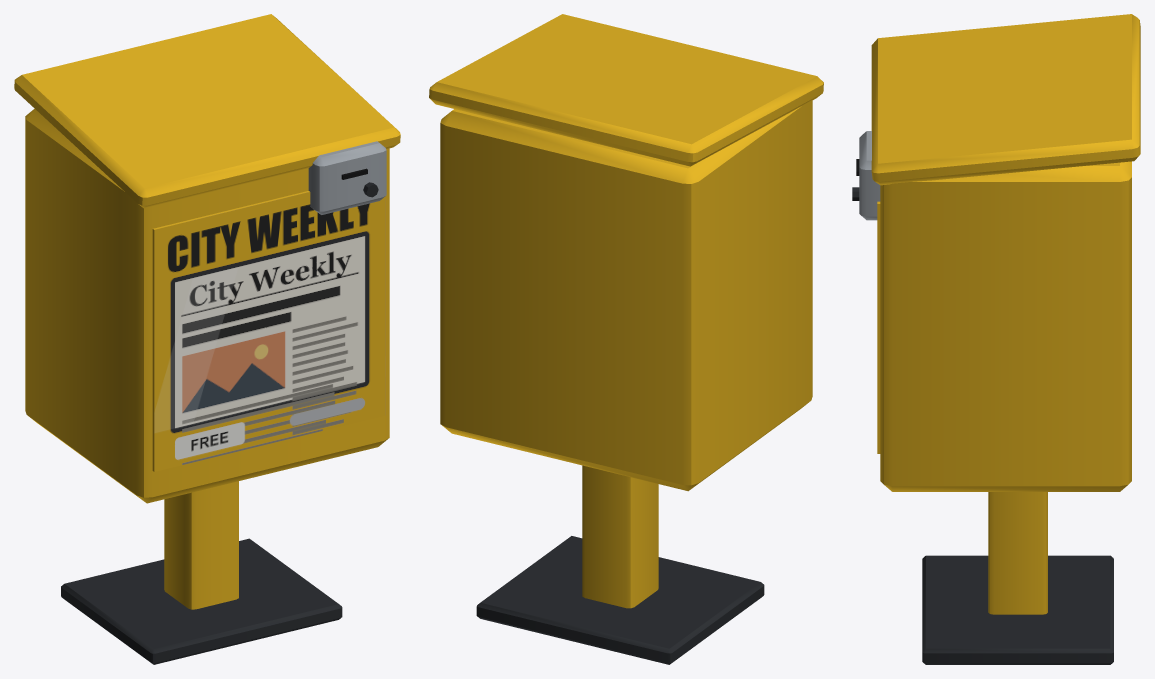
Rendered from NewsBox_CityWeekly.fbx.
3 renders of one model, left to right at view 1: azimuth 30°, elevation 25°; view 2: azimuth 150°, elevation 25°; view 3: azimuth 270°, elevation 25°, orthographic. The views are drawn at different scales.
Visible parts, largest first — view 1: NewsBox_CityWeekly_Mesh; view 2: NewsBox_CityWeekly_Mesh; view 3: NewsBox_CityWeekly_Mesh.
Boxes of the visible parts, x1=… form: NewsBox_CityWeekly_Mesh: x1=14, y1=14, x2=400, y2=664; NewsBox_CityWeekly_Mesh: x1=429, y1=14, x2=823, y2=664; NewsBox_CityWeekly_Mesh: x1=852, y1=14, x2=1140, y2=664.
Bounding box in the file's own units: 0.52 × 0.9972 × 0.4816.
